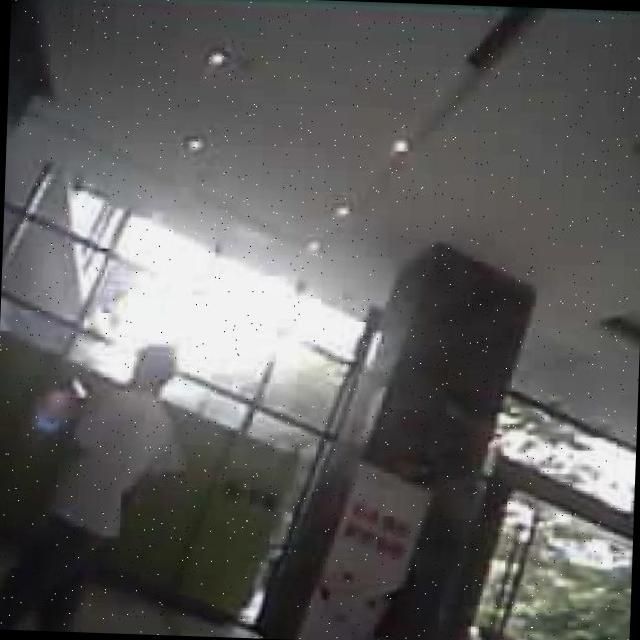person: (0, 334, 179, 635)
